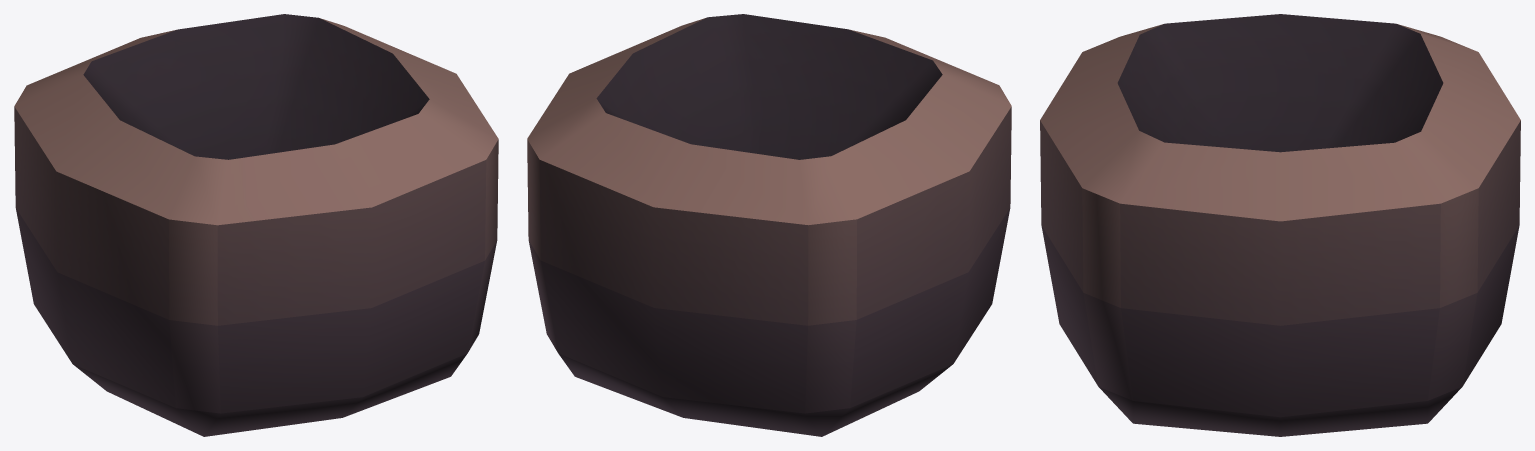
File: pot_1.fbx
3 renders of one model, left to right at view 1: azimuth 30°, elevation 25°; view 2: azimuth 150°, elevation 25°; view 3: azimuth 270°, elevation 25°, orthographic. The views are drawn at different scales.
Visible parts, largest first — view 1: pot_1; view 2: pot_1; view 3: pot_1.
Part boxes in pixels (x1,y1,x2,y2): pot_1: [14, 14, 498, 436]; pot_1: [527, 14, 1011, 436]; pot_1: [1040, 14, 1520, 436].
Bounding box in the file's own units: 41.25 × 26.38 × 41.36.
